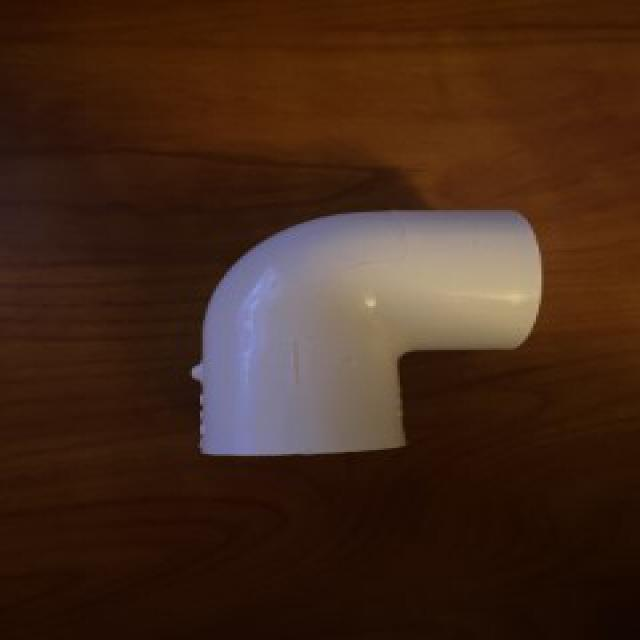L Joint: (190, 209, 544, 459)
